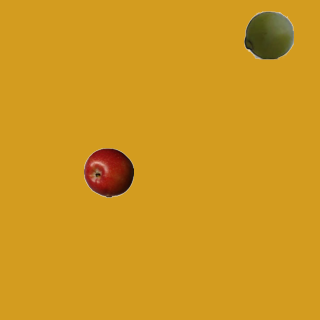Apple Braeburn: (83, 147, 133, 197)
Grape White 4: (243, 9, 293, 59)
